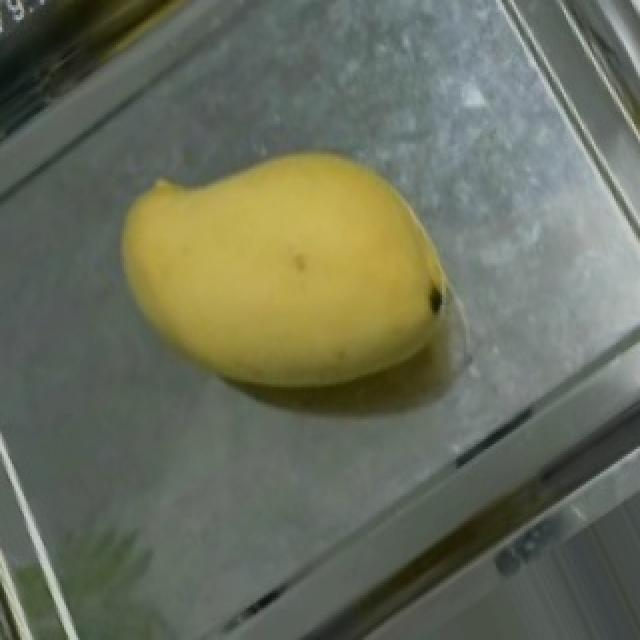fruit: (122, 87, 510, 459)
